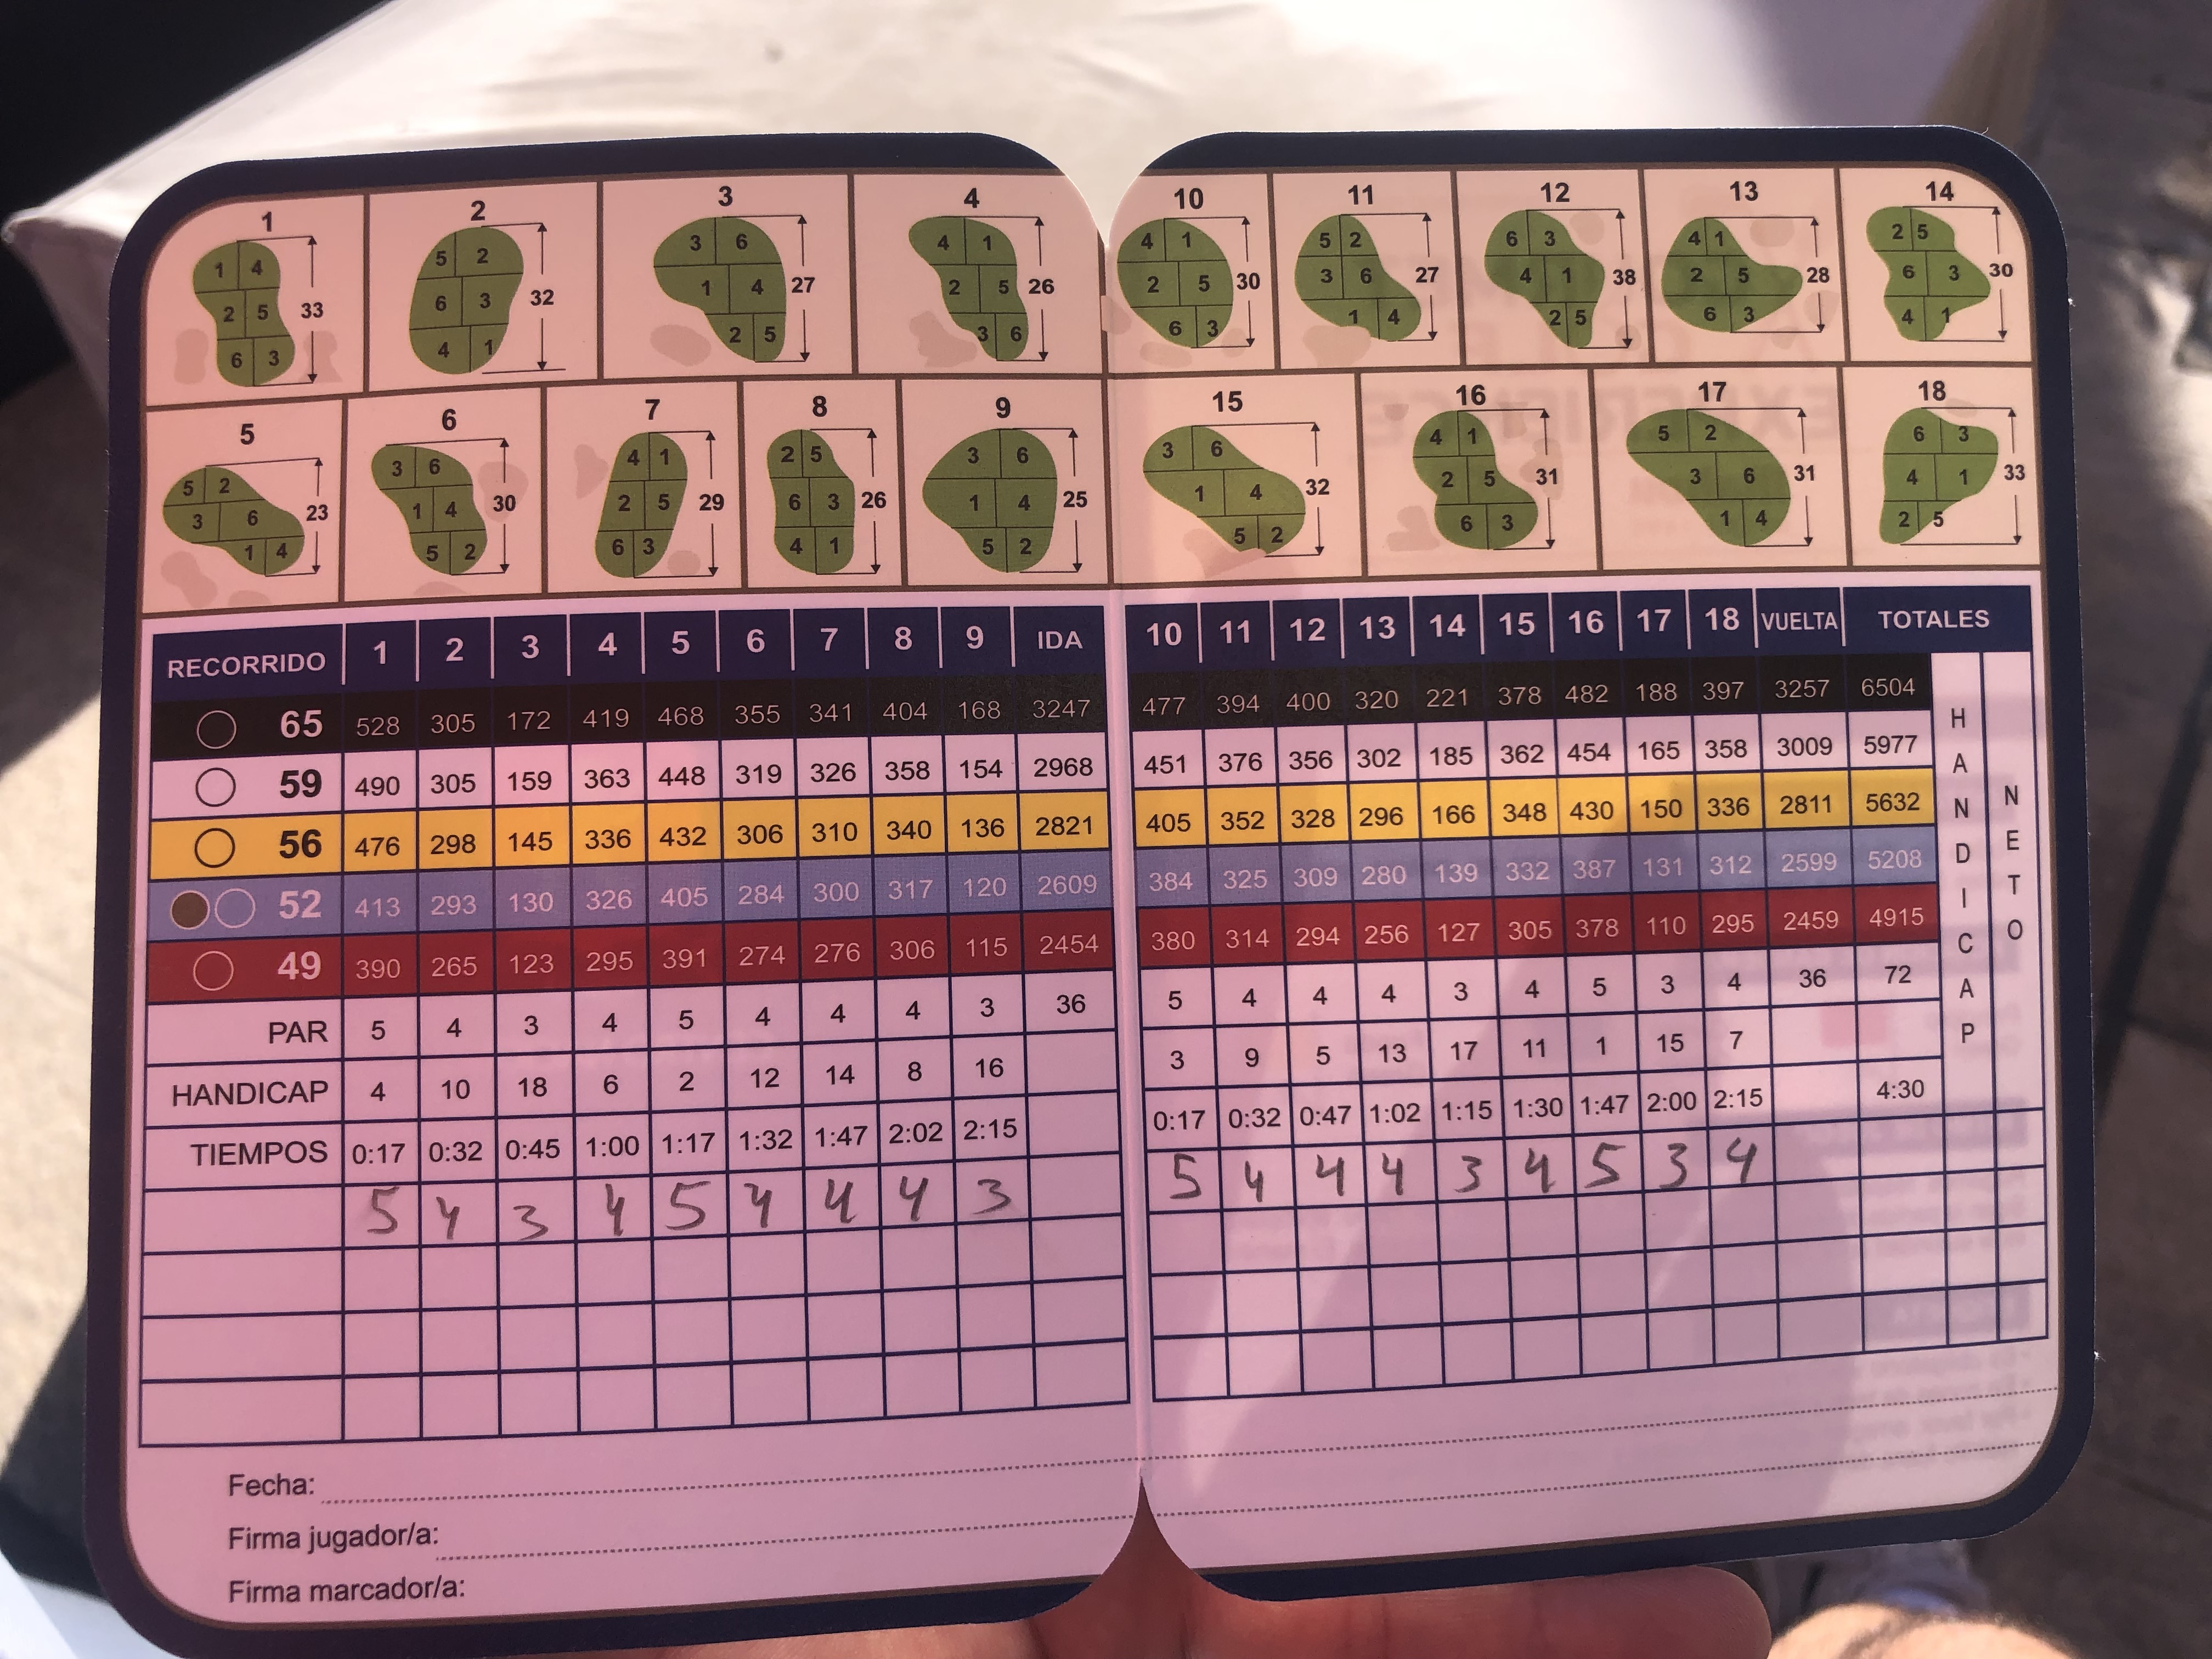par: (258, 967, 1933, 1039)
score: (371, 1140, 1763, 1246)
